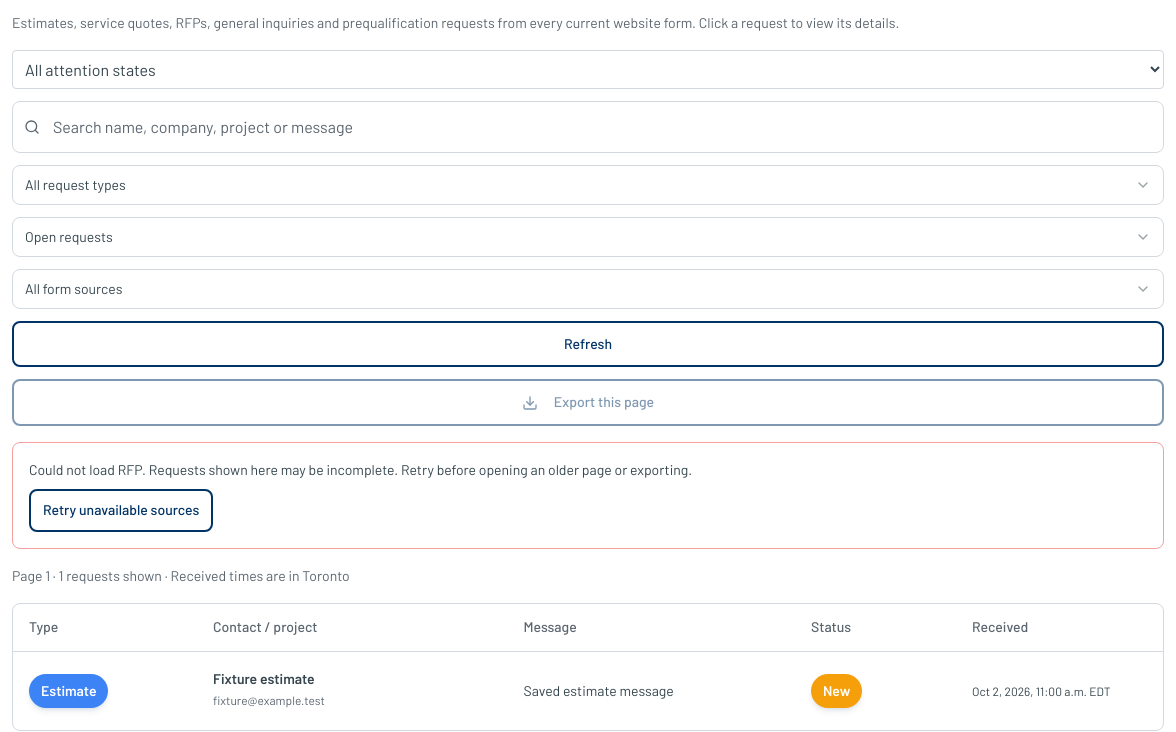
Test case: Leads workspace behavior › keeps partial results visible and blocks export/advancing until the failed source recovers
Expected: the message shows "Could not load RFP", [12, 442, 1164, 549]
Expected: the button "Fixture estimate" is shown, [213, 668, 315, 691]
Click the button "Retry unavailable sources".
click(121, 510)  # box [29, 489, 213, 532]
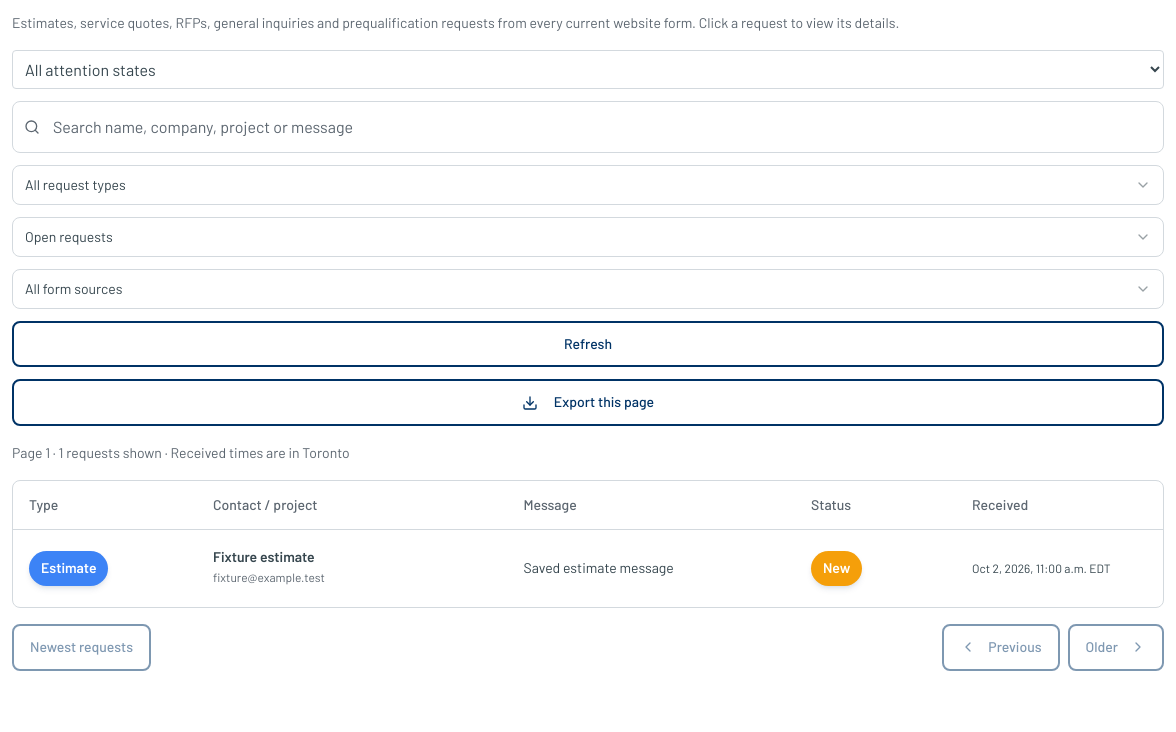
Now the message "Could not load RFP. Requests shown here may be incomplete. Retry before opening" is gone
Now the button "Export this page" is enabled, box [12, 379, 1164, 426]
